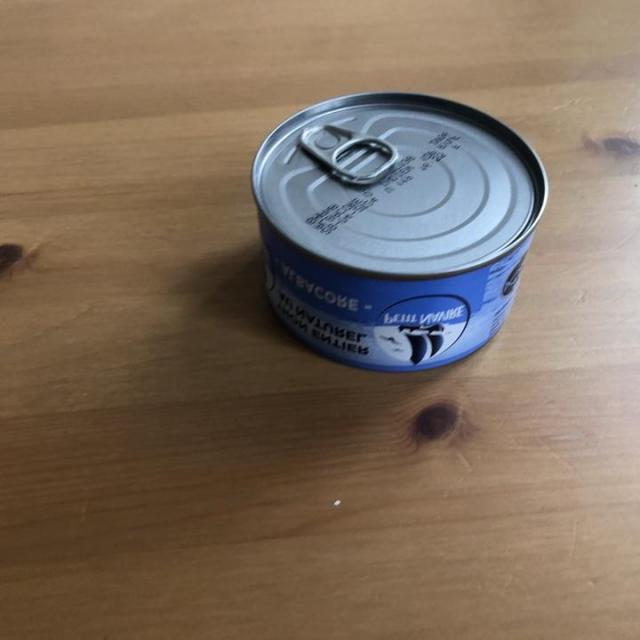metal: (246, 86, 546, 376)
